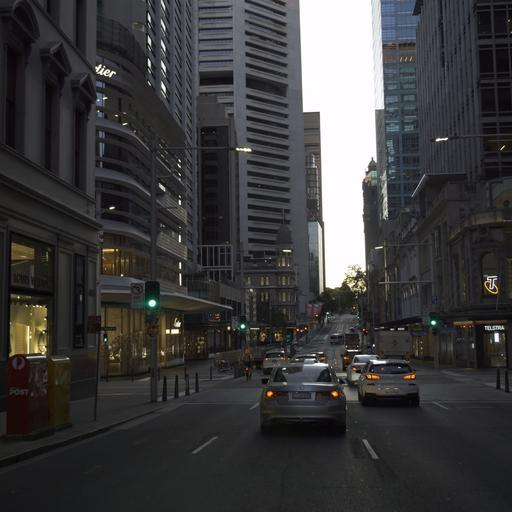Street light: (145, 142, 252, 402), (373, 240, 439, 367), (238, 247, 292, 349), (431, 132, 511, 151), (239, 315, 246, 330)
